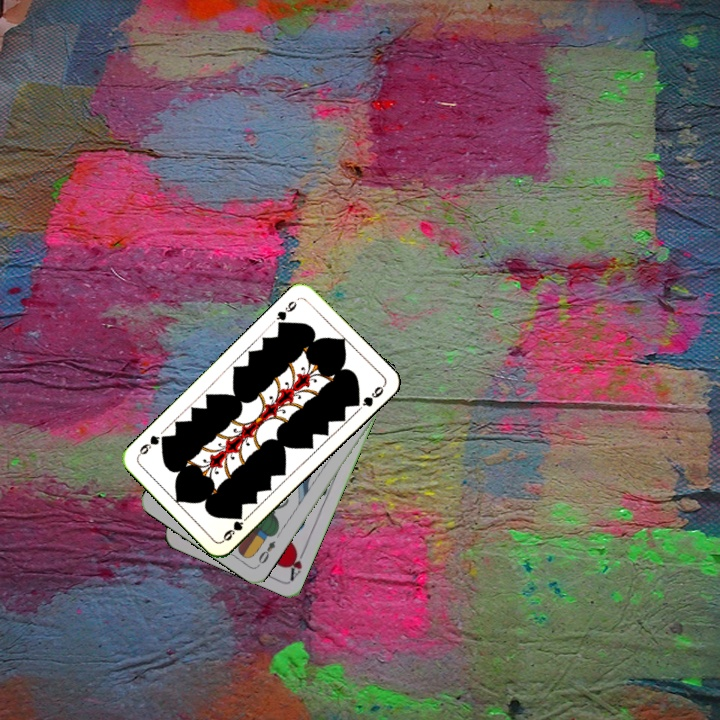EO: (253, 537, 278, 569)
G9: (218, 510, 246, 544), (272, 297, 299, 331)
HA: (285, 544, 309, 583)
